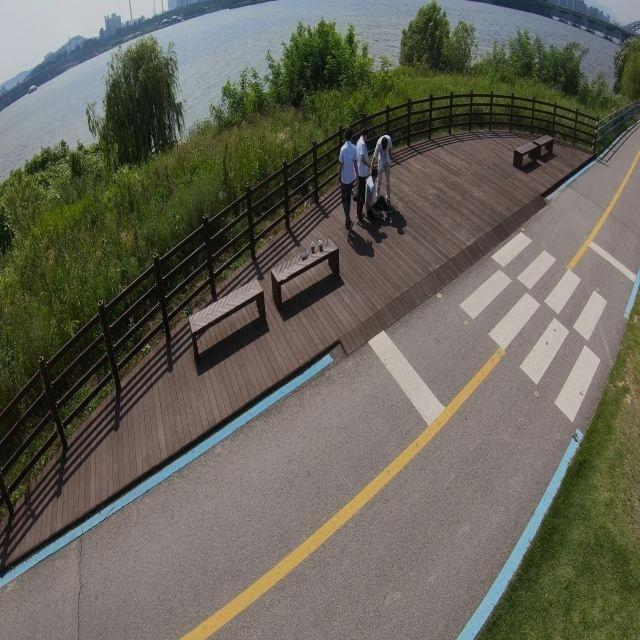fight: (367, 129, 393, 233)
non-fight: (337, 127, 357, 232), (354, 127, 370, 225)
